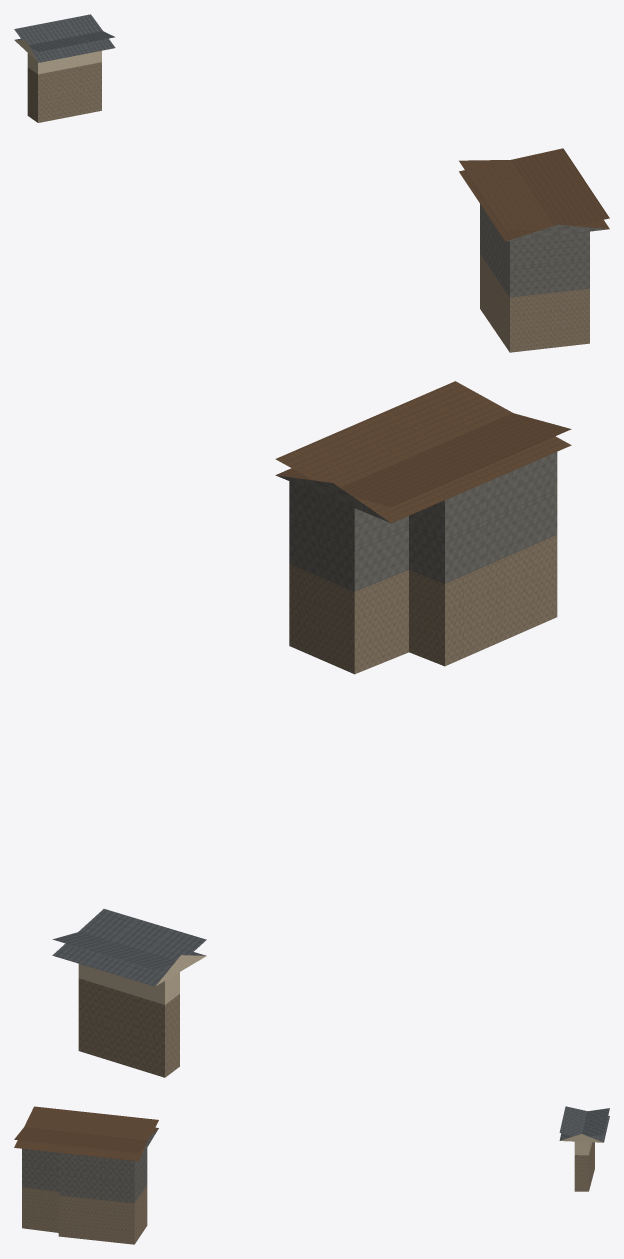
File: bld_c36_-27_442.gltf
The picture shows the model from 3 angles, top to bottom: view 1: azimuth 30°, elevation 25°; view 2: azimuth 150°, elevation 25°; view 3: azimuth 270°, elevation 25°; orthographic projection. The views are drawn at different scales.
Parts seen in each view (by area): view 1: bld_c36_-27_442; view 2: bld_c36_-27_442; view 3: bld_c36_-27_442.
Part boxes in pixels (box(x1,y1,x2,y2)): bld_c36_-27_442: box(14, 14, 609, 352); bld_c36_-27_442: box(52, 381, 571, 1077); bld_c36_-27_442: box(14, 1106, 609, 1244).
Size of the model in its own units: 23.17 by 12.4 by 66.75.
7 materials, 7 textured.
